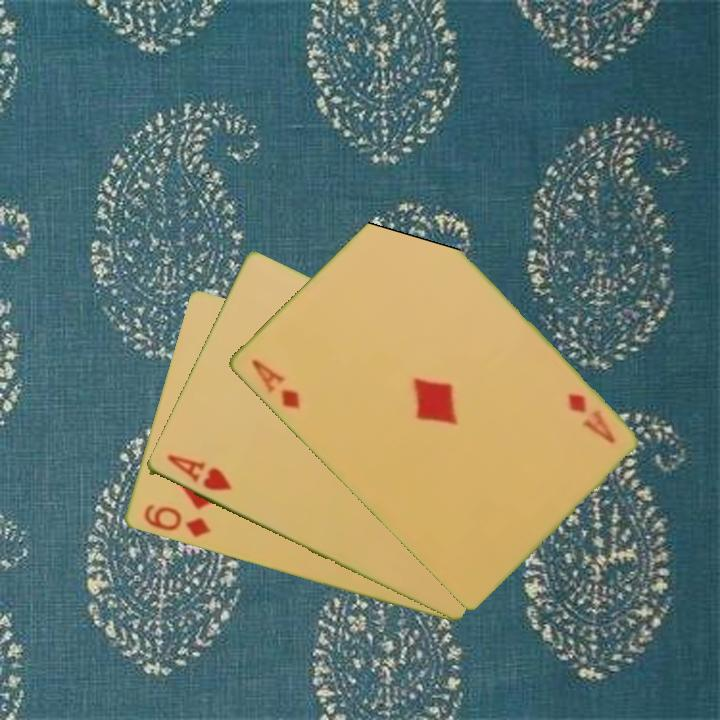6d: (140, 500, 213, 541)
Ad: (246, 356, 303, 413), (564, 389, 618, 447)
Ah: (162, 451, 234, 494)
